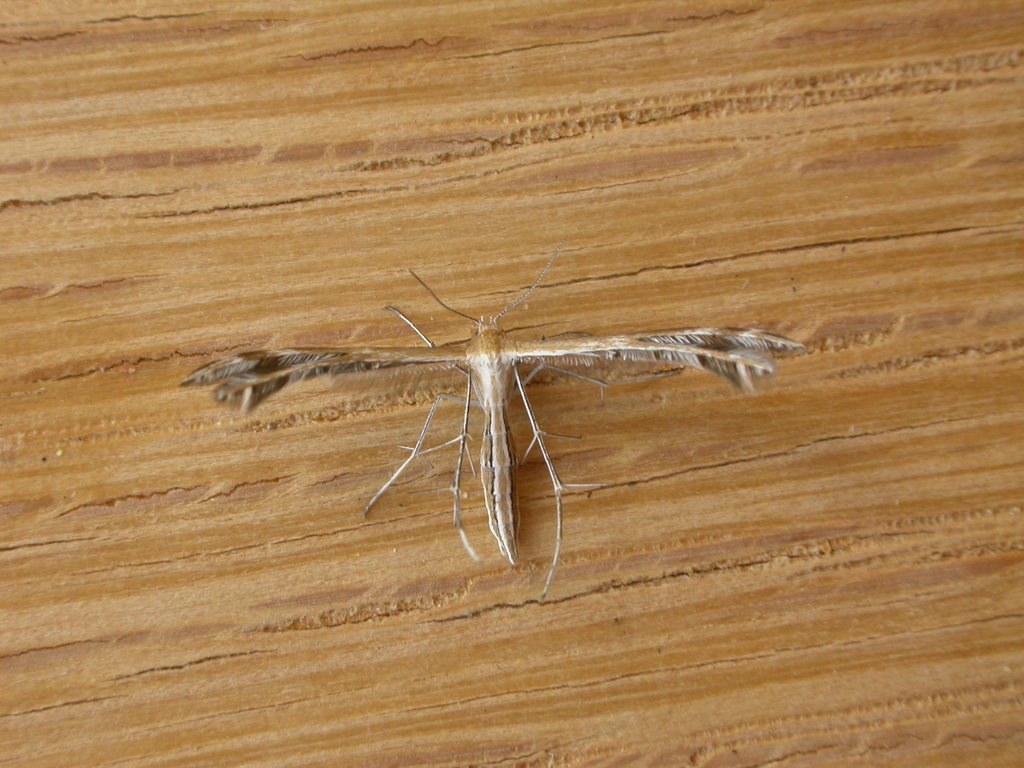insect: (175, 233, 809, 601)
